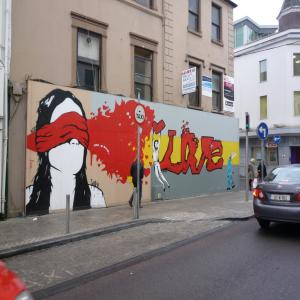Vehicle-registration-plate: (271, 194, 291, 203)
